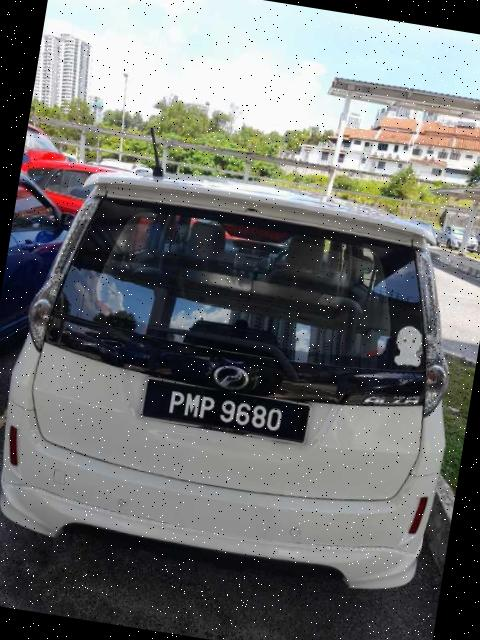License_Plate: (141, 376, 314, 445)
car: (1, 148, 480, 601)
